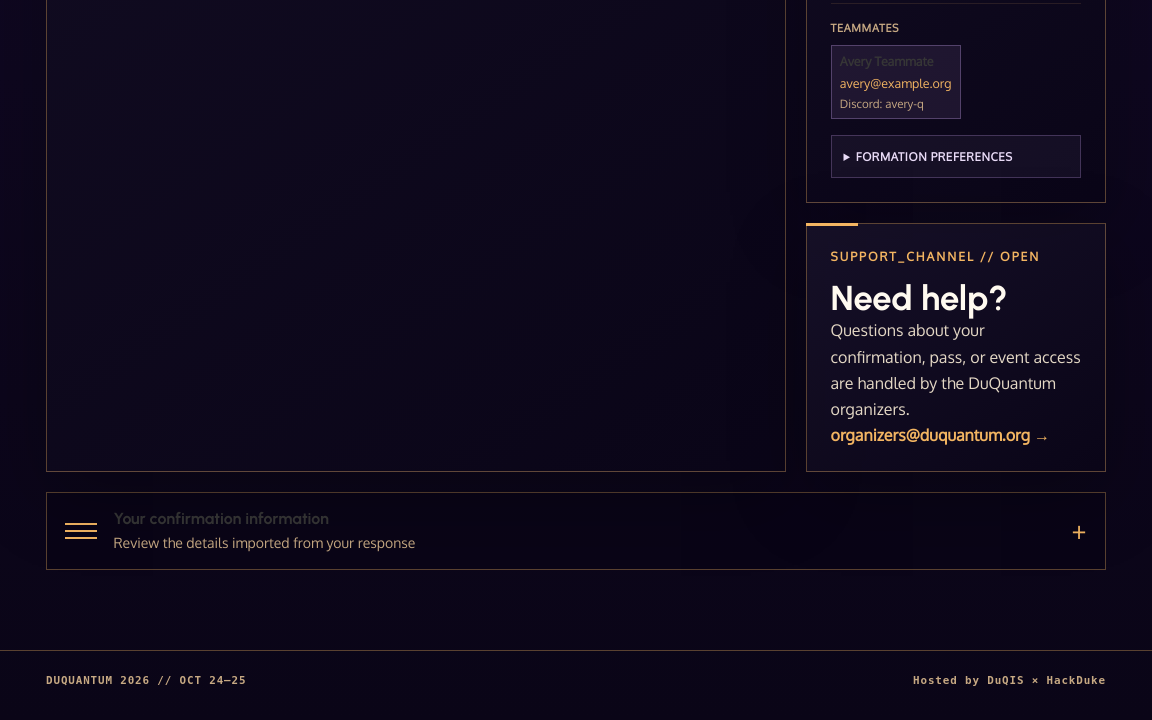
DuQuantumPortalPage › shows the participant's imported information in a private collapsible drawer
(page scrolled)
Click the heading "Your confirmation information" at (81, 524), box [66, 509, 1087, 551]
(page scrolled)
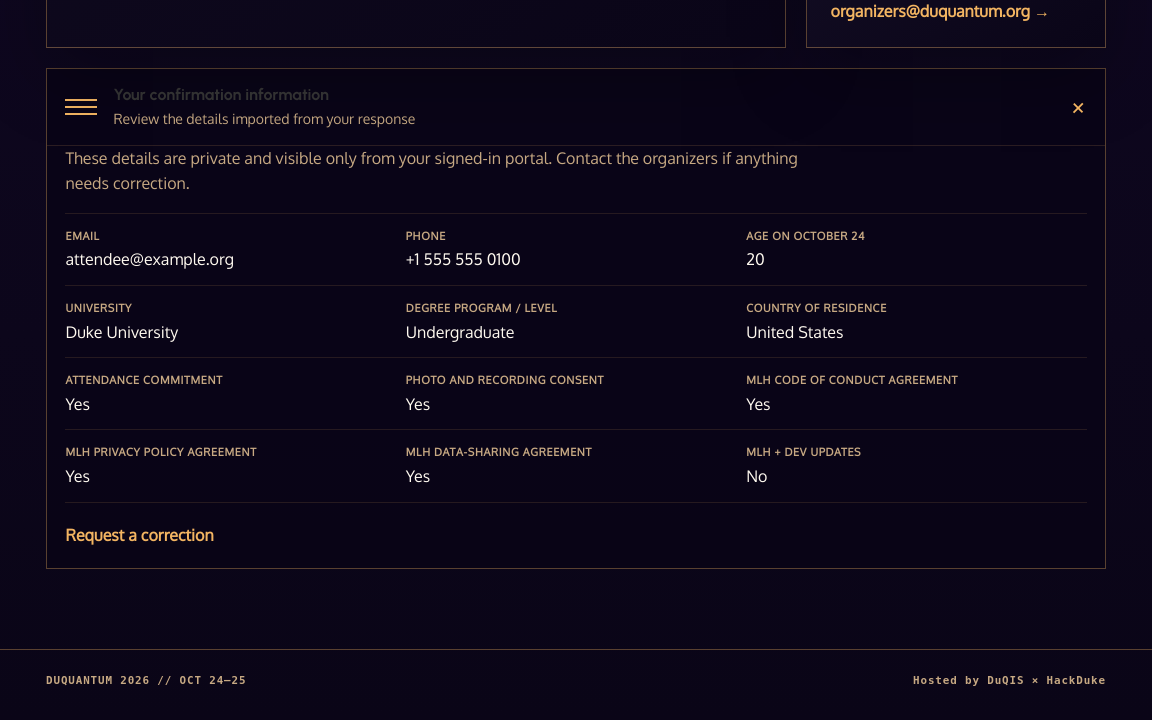
expect the text "+1 555 555 0100" is shown: met, box [406, 249, 521, 269]
expect the text "Duke University" is shown: met, box [66, 322, 178, 342]
expect the text "Undergraduate" is shown: met, box [406, 322, 514, 342]
